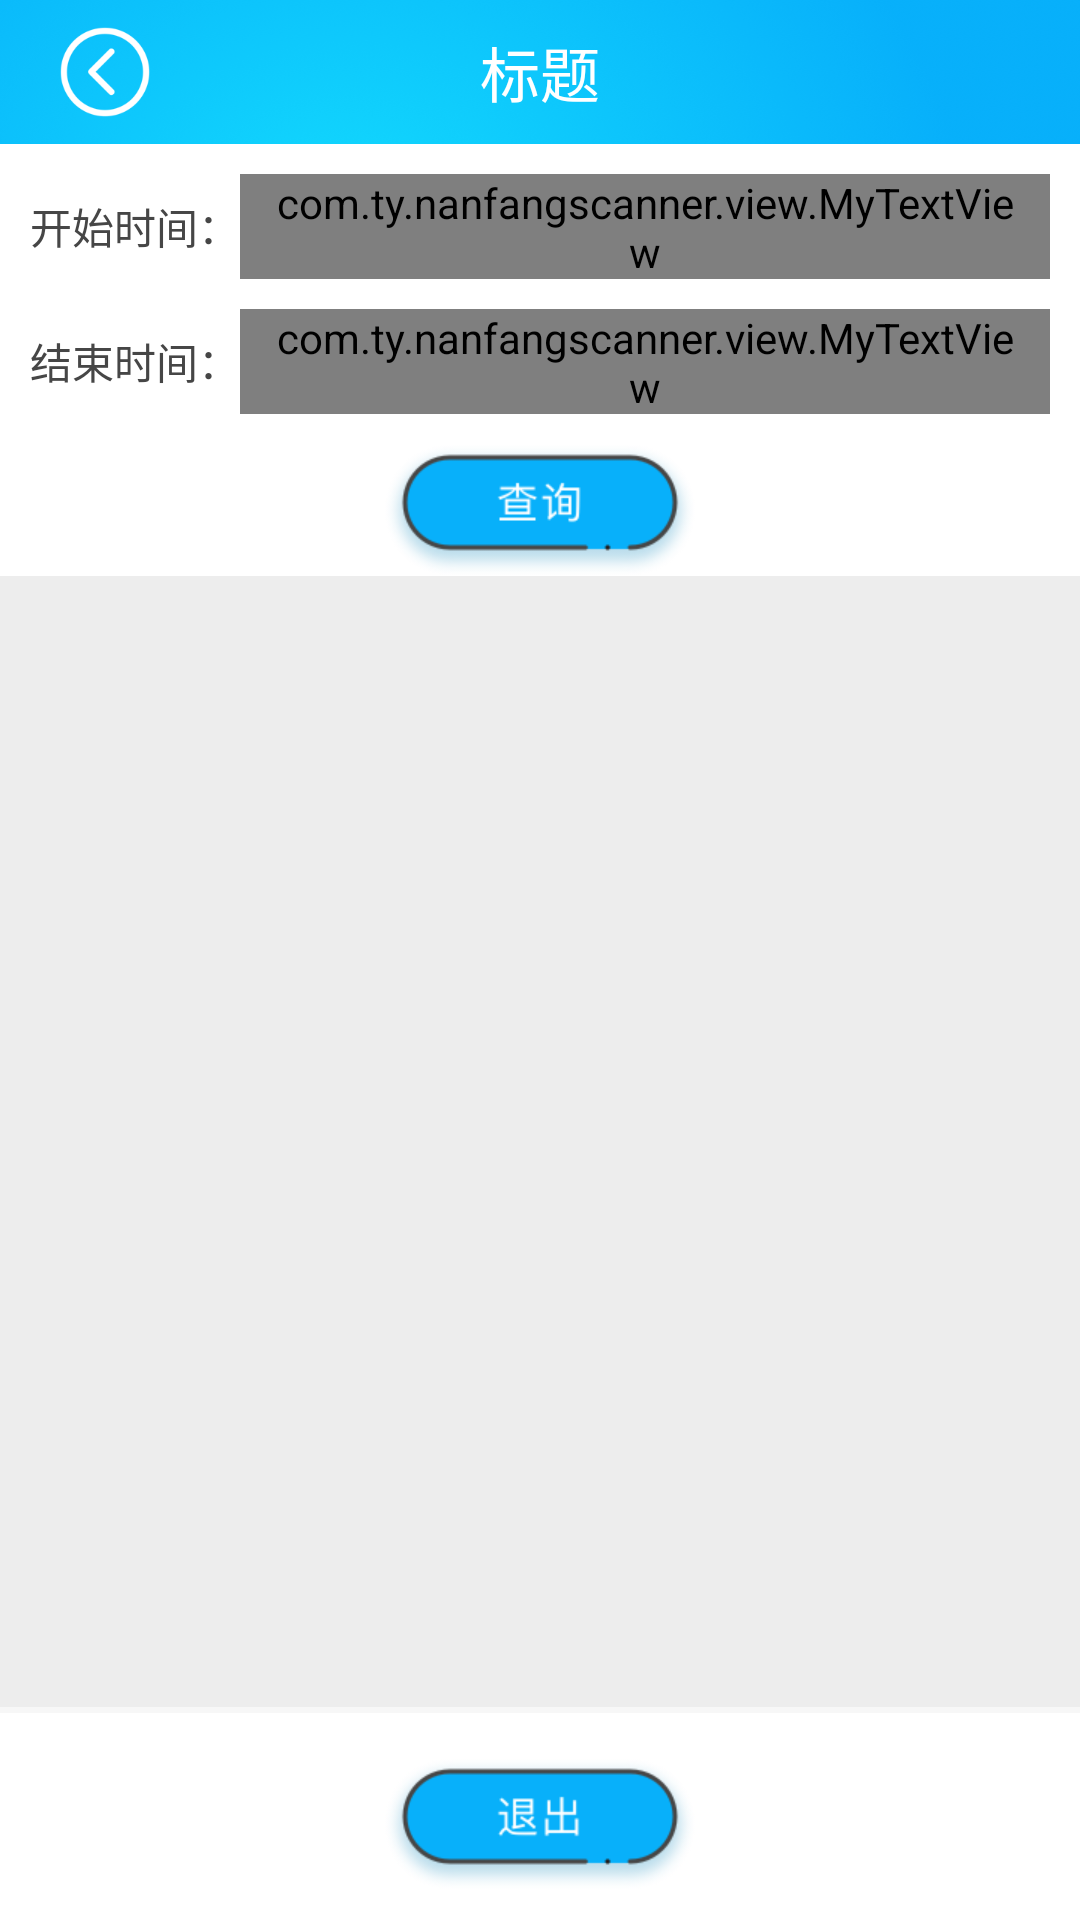

Icon click points for this 1080 × 1920 phone screenshot, format point (x, y):
back: point (105, 72)
